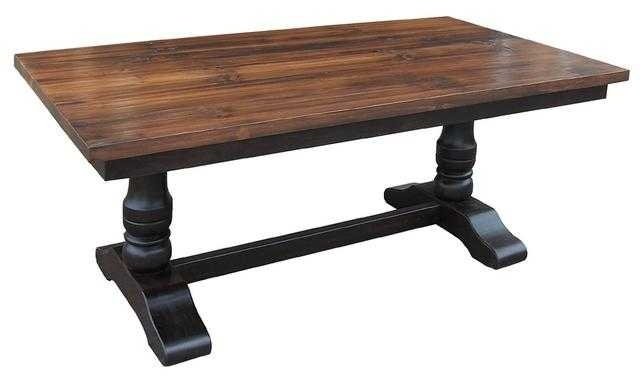obstacle: (15, 17, 628, 364)
